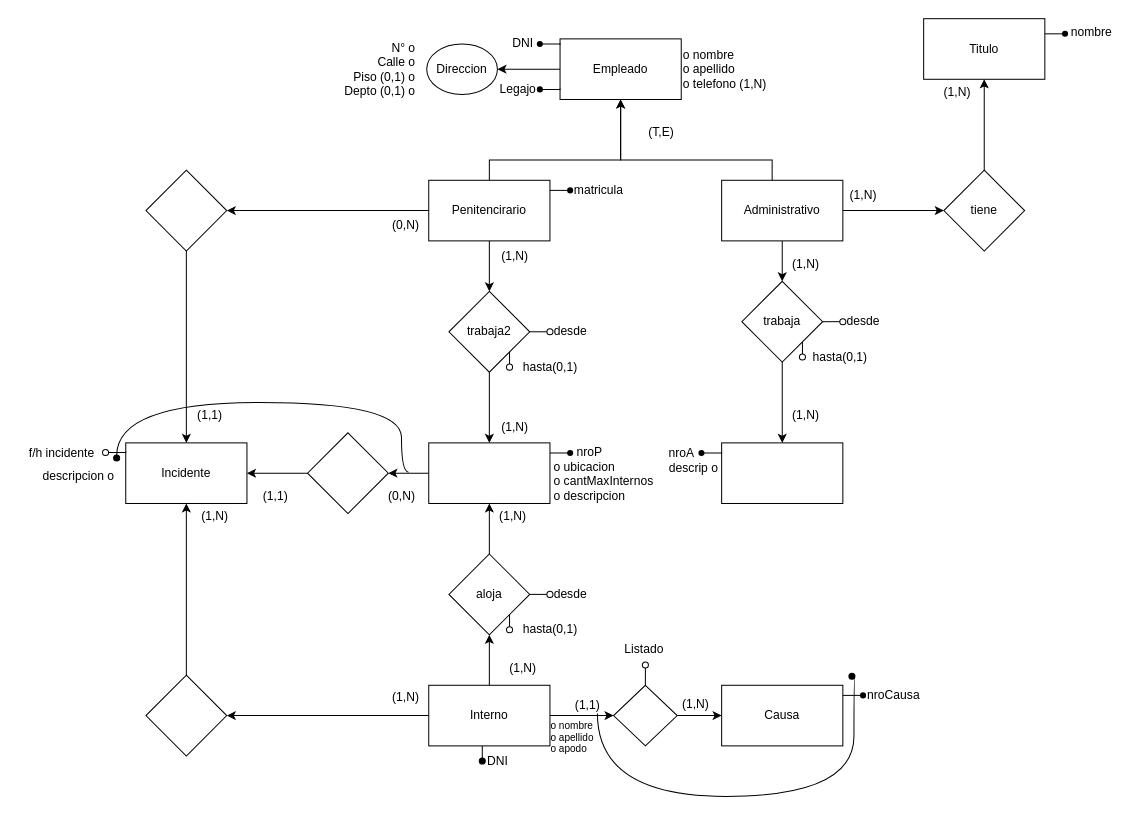
This 1138x814 diagram has some shape labels left out. Here are the shapes that lost their labels. From the top down, the centre of each, then its label:
At (x=186, y=210): "atiende".
At (x=347, y=473): "ocurre".
At (x=489, y=472): "Pabellon".
At (x=782, y=472): "Area Administrativa".
At (x=186, y=715): "participa".
At (x=645, y=715): "tiene2".
